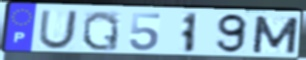1: (180, 11, 200, 55)
5: (127, 12, 162, 52)
9: (213, 12, 251, 55)
M: (250, 14, 301, 55)
Q: (81, 9, 121, 52)
U: (36, 9, 80, 51)
